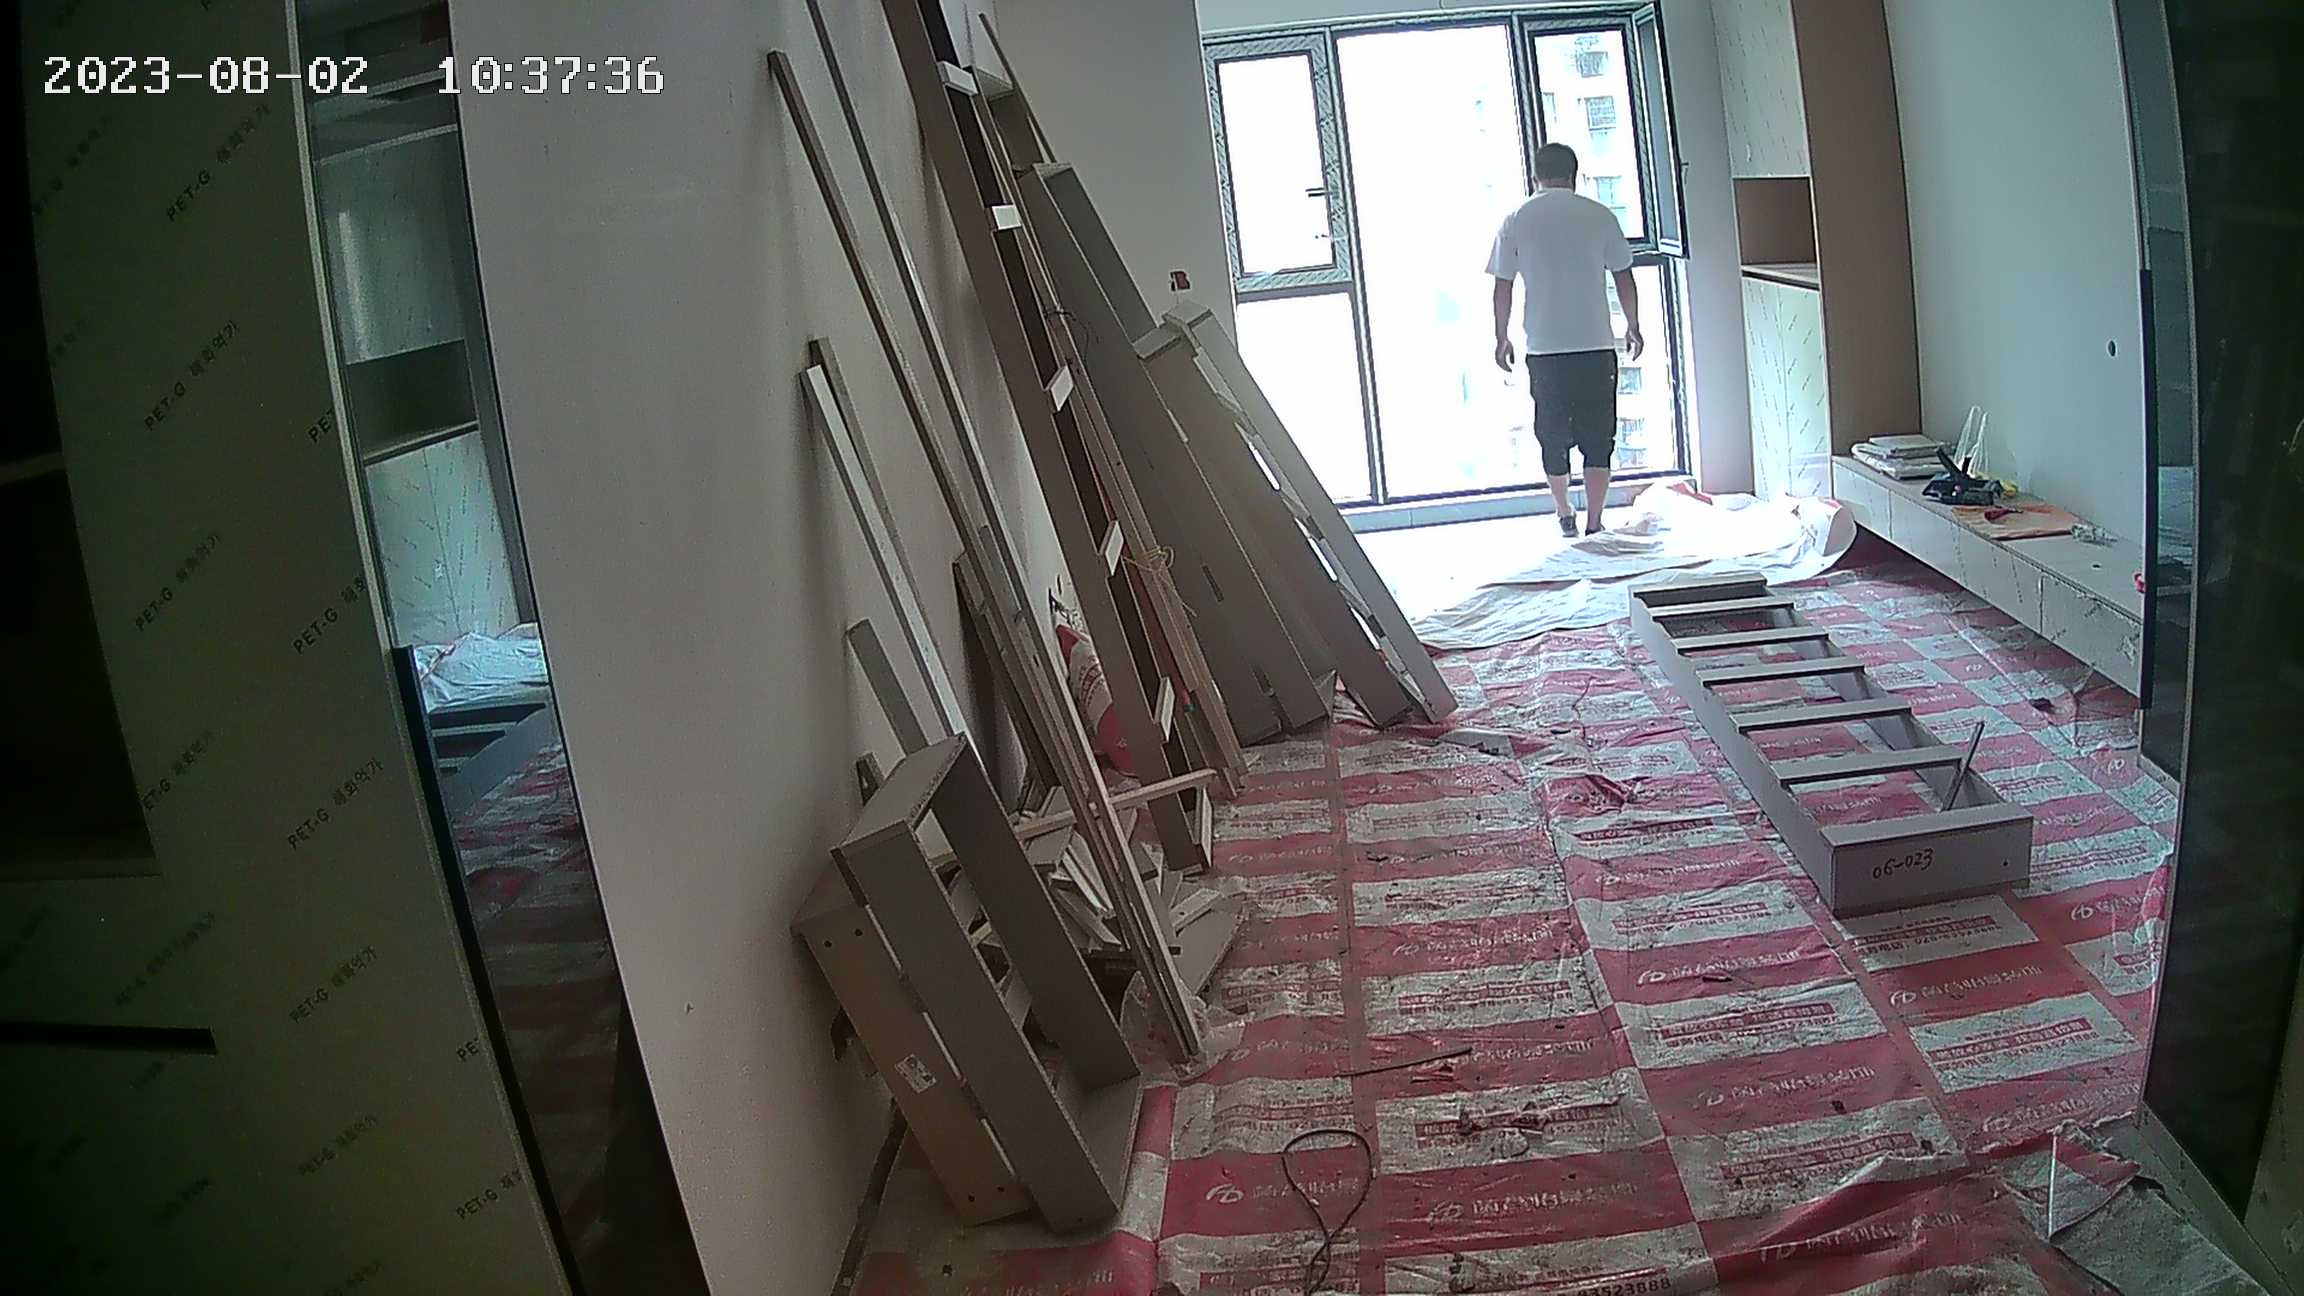people: (1489, 147, 1649, 541)
window: (1195, 31, 1702, 508)
